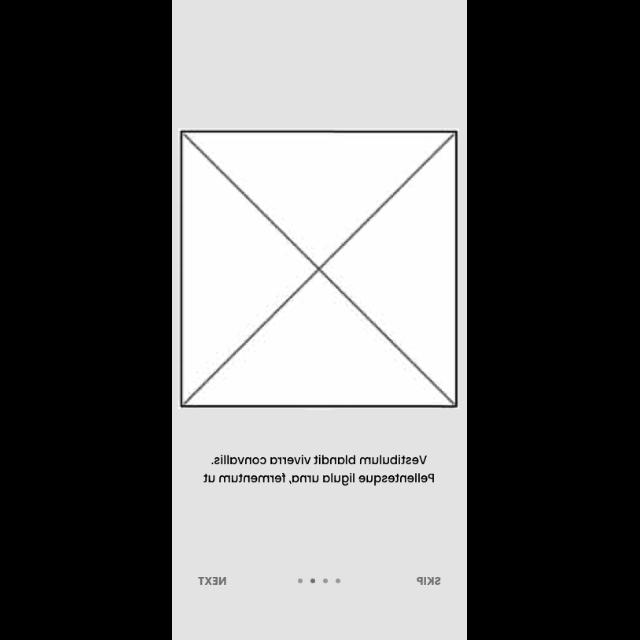image: (180, 130, 458, 410)
pageindicator: (298, 578, 342, 584)
text: (203, 454, 434, 488), (198, 576, 228, 586), (417, 576, 441, 586)
